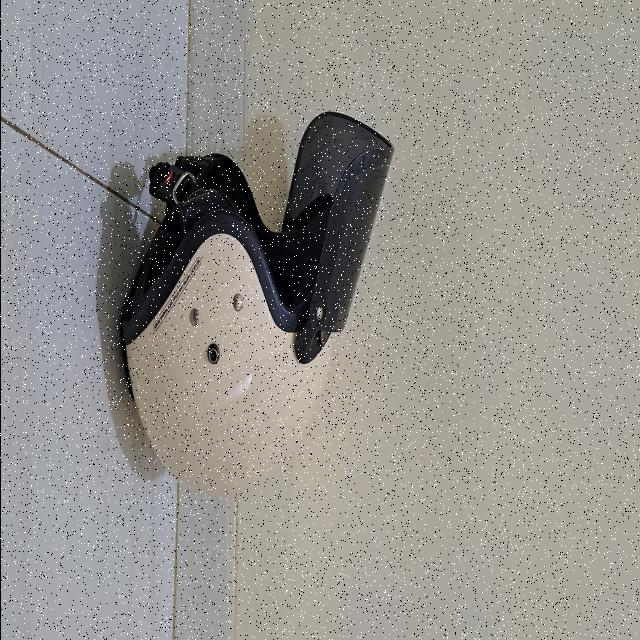Helmet: (117, 112, 391, 499)
